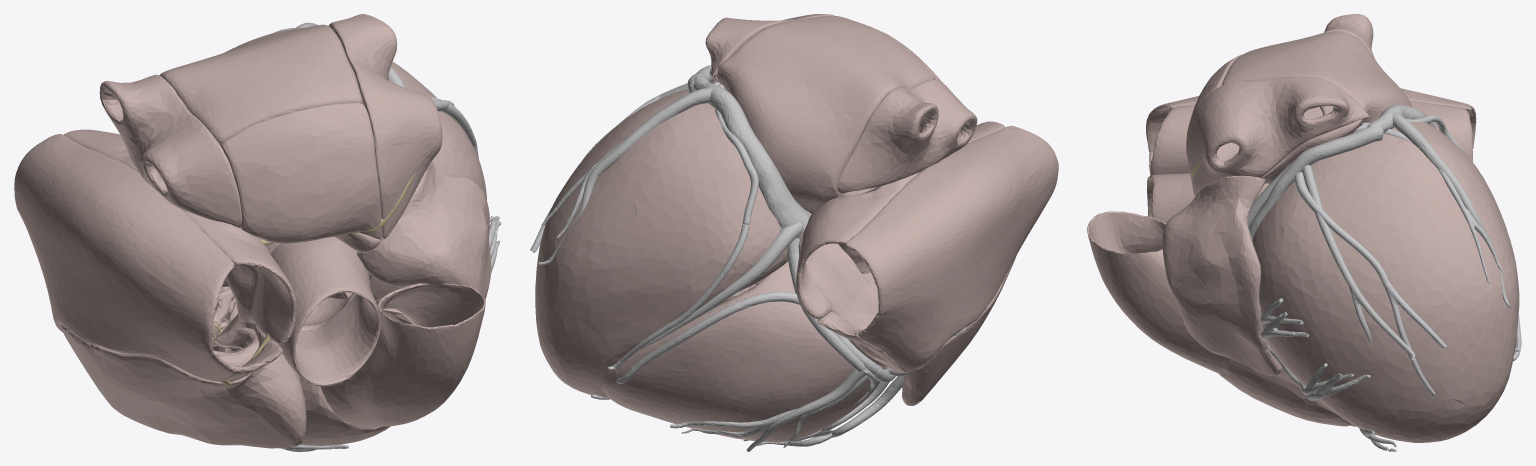
The model's file is heart_anatomy.glb.
The picture shows the model from 3 angles, left to right: view 1: azimuth 30°, elevation 25°; view 2: azimuth 150°, elevation 25°; view 3: azimuth 270°, elevation 25°; orthographic projection. The views are drawn at different scales.
Parts seen in each view (by area): view 1: Heart, Veins, Conduction; view 2: Heart, Veins, RCA, LCX; view 3: Heart, Veins, LCX, LAD.
Part boxes in pixels (x1,y1,x2,y2): Heart: (14,14,491,448); Veins: (272,22,501,271); Conduction: (186,172,416,385); Heart: (535,14,1058,442); Veins: (538,65,903,451); RCA: (616,292,965,447); LCX: (530,81,758,370); Heart: (1087,14,1519,442); Veins: (1248,104,1511,451); LCX: (1247,115,1519,395); LAD: (1261,298,1396,446).
Bounding box in the file's own units: 1.97 × 1.81 × 2.
